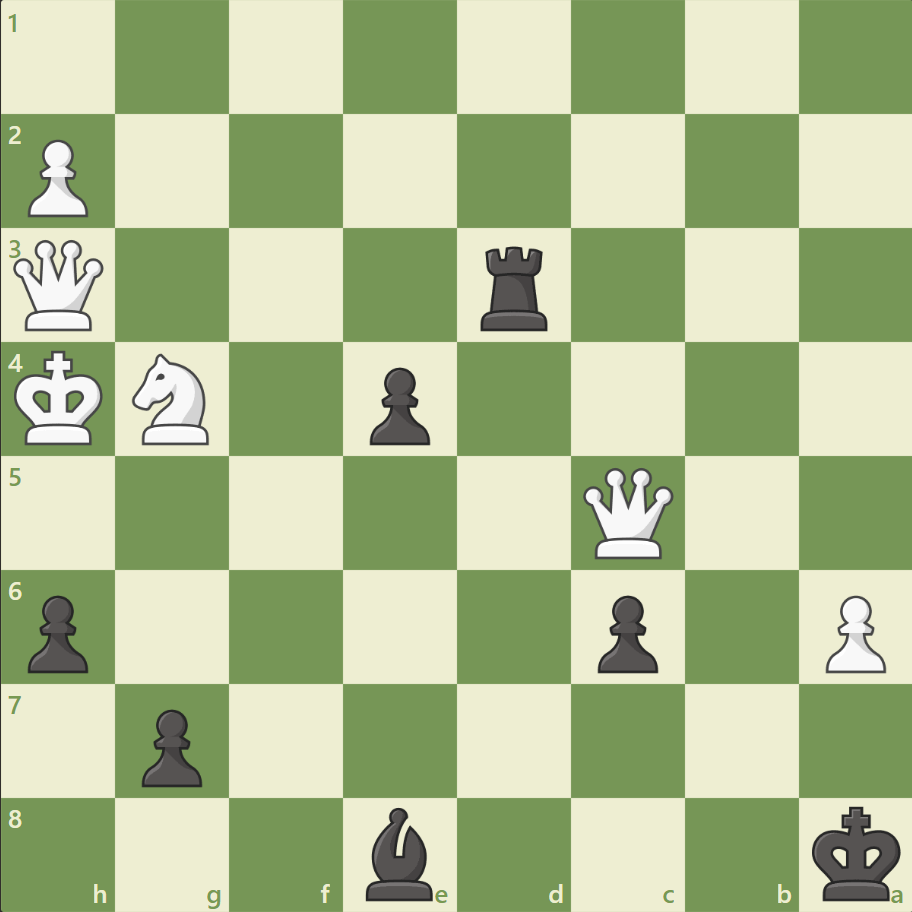K: (11, 344, 111, 452)
N: (124, 348, 222, 450)
P: (20, 132, 95, 223), (815, 586, 889, 677)
Q: (578, 463, 677, 562), (10, 236, 109, 335)
b: (358, 801, 442, 904)
k: (806, 798, 906, 906)
p: (133, 700, 208, 791), (20, 586, 95, 677), (588, 586, 662, 677), (361, 359, 435, 450)
r: (473, 239, 556, 336)
